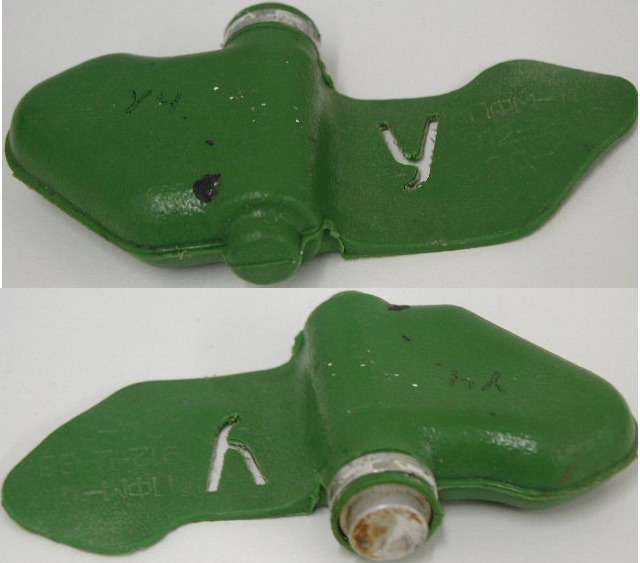butterfly: (1, 4, 637, 285), (3, 293, 630, 563)
